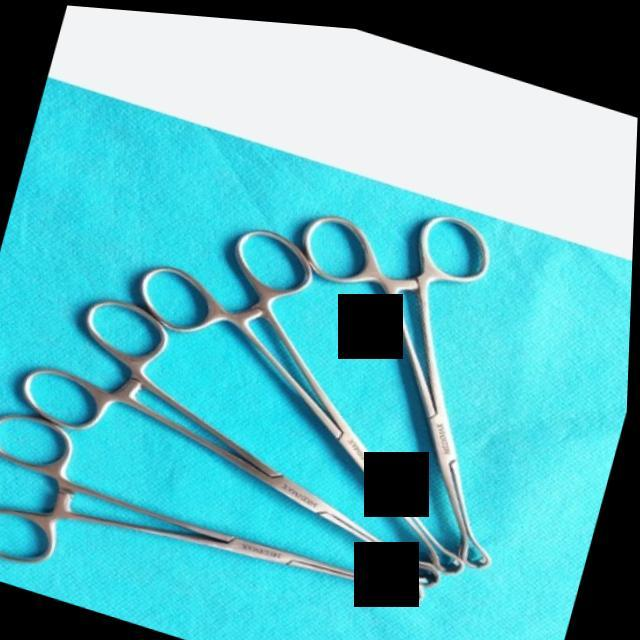Babcock Forceps: (90, 192, 546, 578), (0, 277, 536, 604), (224, 156, 597, 576), (0, 404, 450, 640)
